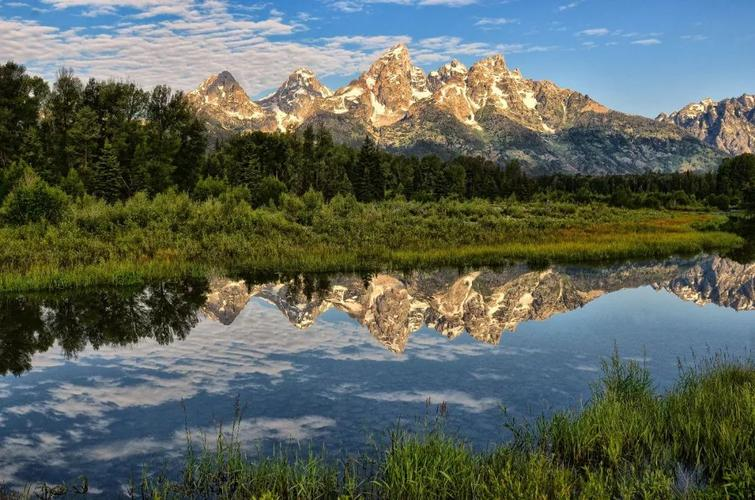mountain: (78, 53, 741, 170)
sea_river: (12, 289, 725, 381)
sky_cloud: (6, 0, 749, 52)
